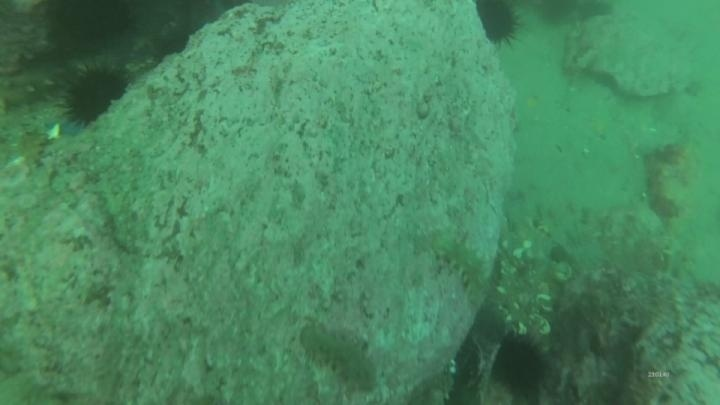echinus: (40, 1, 137, 51), (60, 63, 130, 127), (489, 332, 552, 400), (473, 1, 523, 48), (535, 0, 580, 27)
holothurian: (299, 324, 381, 395), (430, 230, 492, 309), (0, 62, 70, 111)
